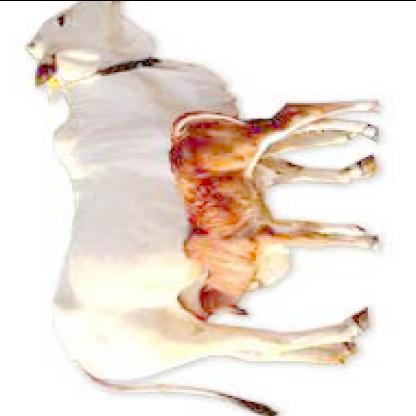Cow: (26, 1, 175, 376), (184, 73, 401, 312)
